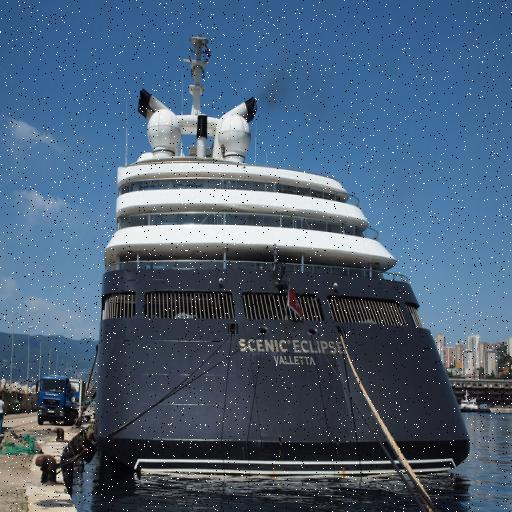cruises: (92, 28, 475, 477)
